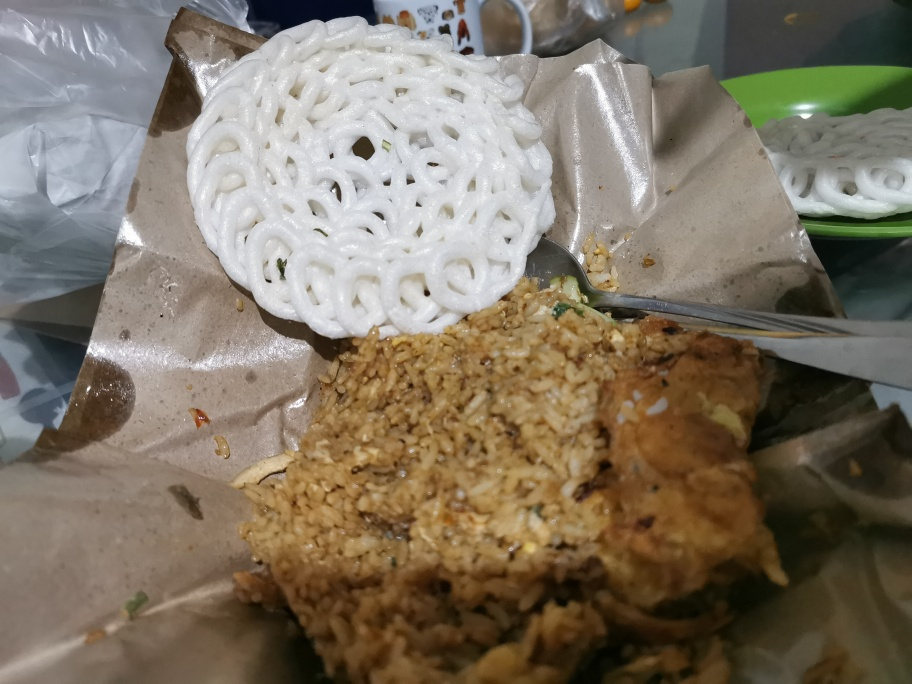kerupuk: (186, 10, 553, 331)
nasi goreng: (279, 331, 766, 684)
